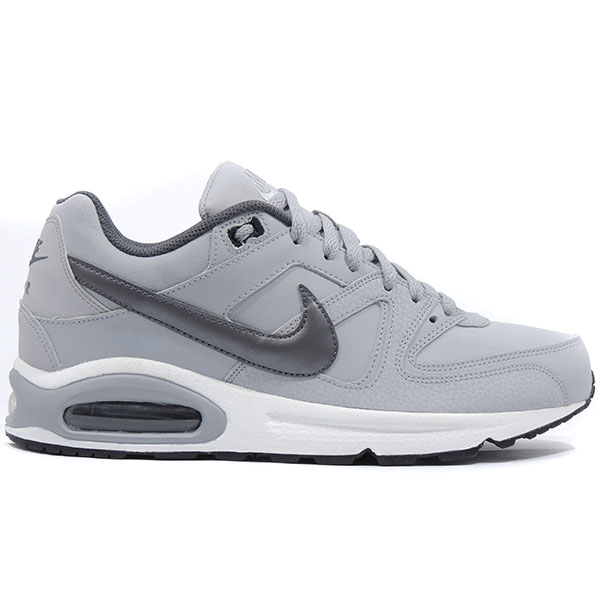nike: (73, 256, 344, 380)
